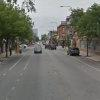Tree: (69, 10, 100, 55)
